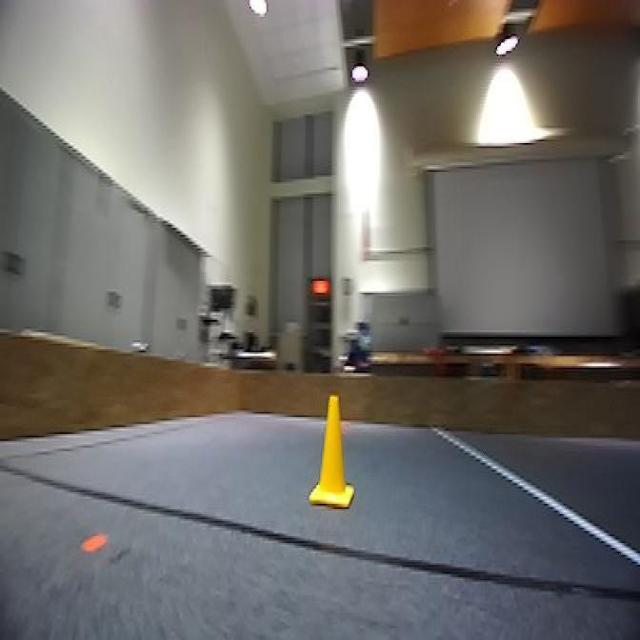frc_cone: (310, 392, 355, 511)
